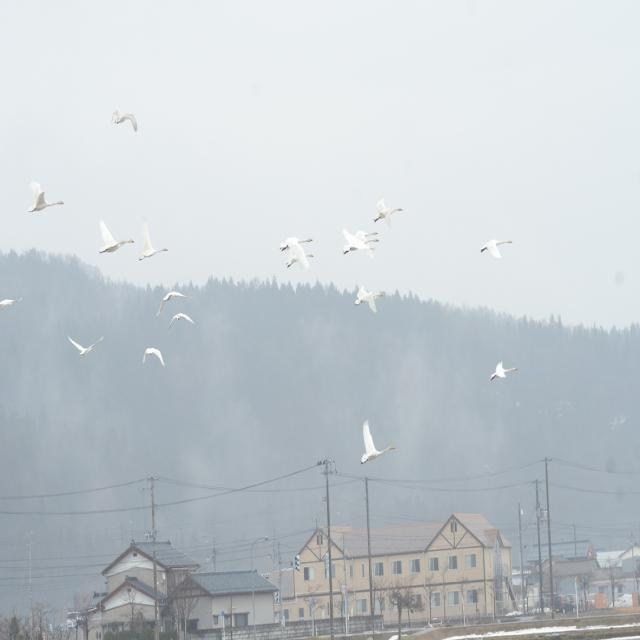bird: (358, 420, 398, 468), (97, 226, 135, 258), (154, 283, 188, 318), (25, 188, 64, 218), (336, 230, 379, 256), (138, 226, 166, 264), (112, 108, 141, 144), (67, 332, 100, 359), (353, 282, 382, 312), (271, 230, 314, 249), (486, 361, 519, 385), (478, 234, 514, 256), (370, 202, 404, 222), (143, 345, 166, 373), (282, 253, 315, 270)
